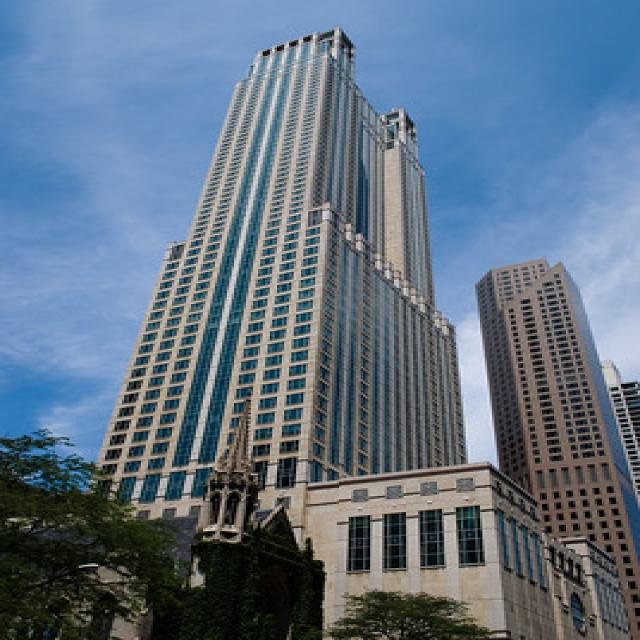Normal_building: (109, 24, 469, 640), (475, 257, 640, 640)
